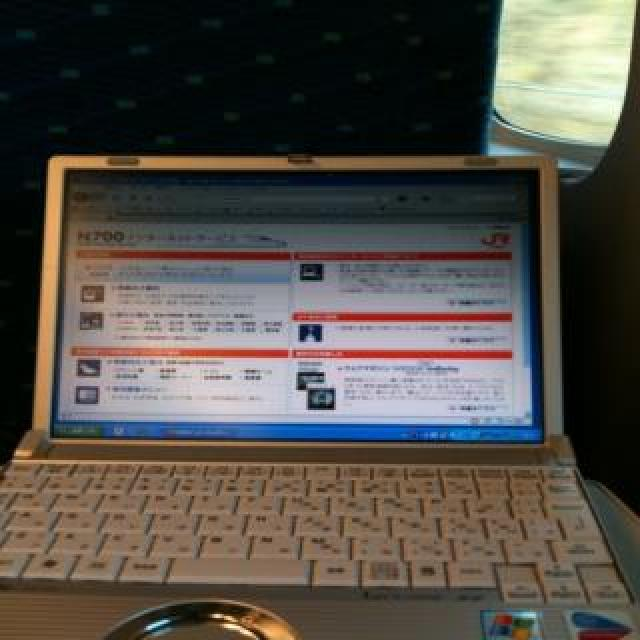laptop_computer: (20, 136, 610, 640)
